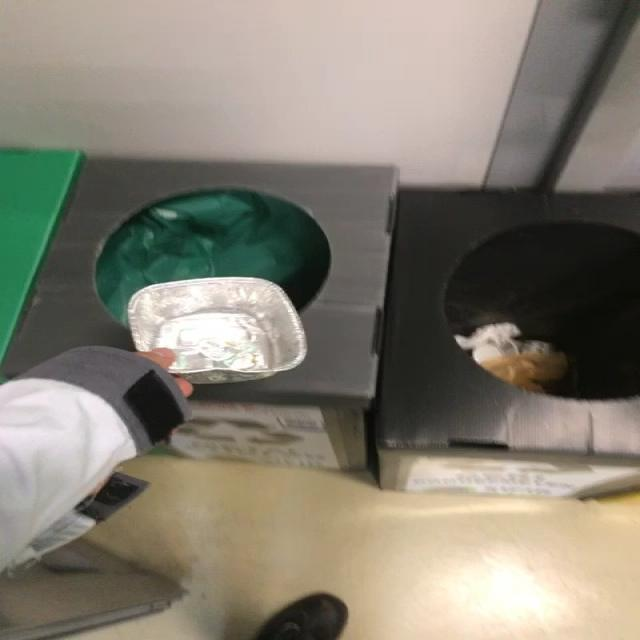bin: (3, 158, 397, 470), (376, 189, 640, 456)
metal: (128, 277, 305, 384)
